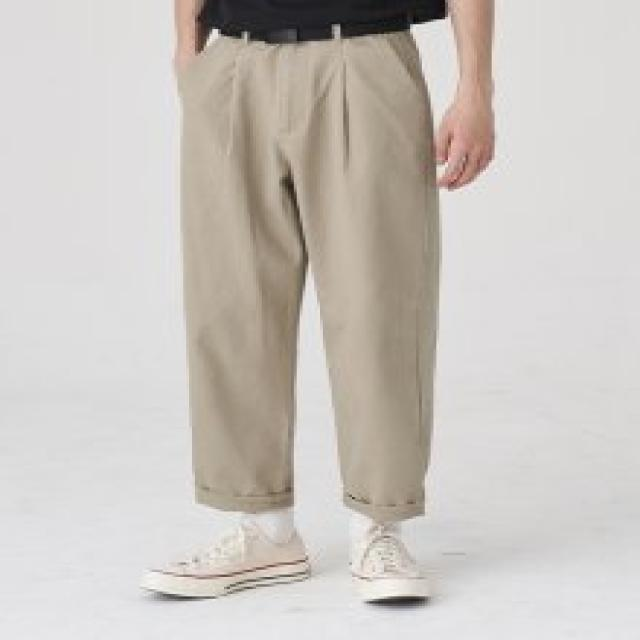long-pants: (175, 31, 442, 515)
